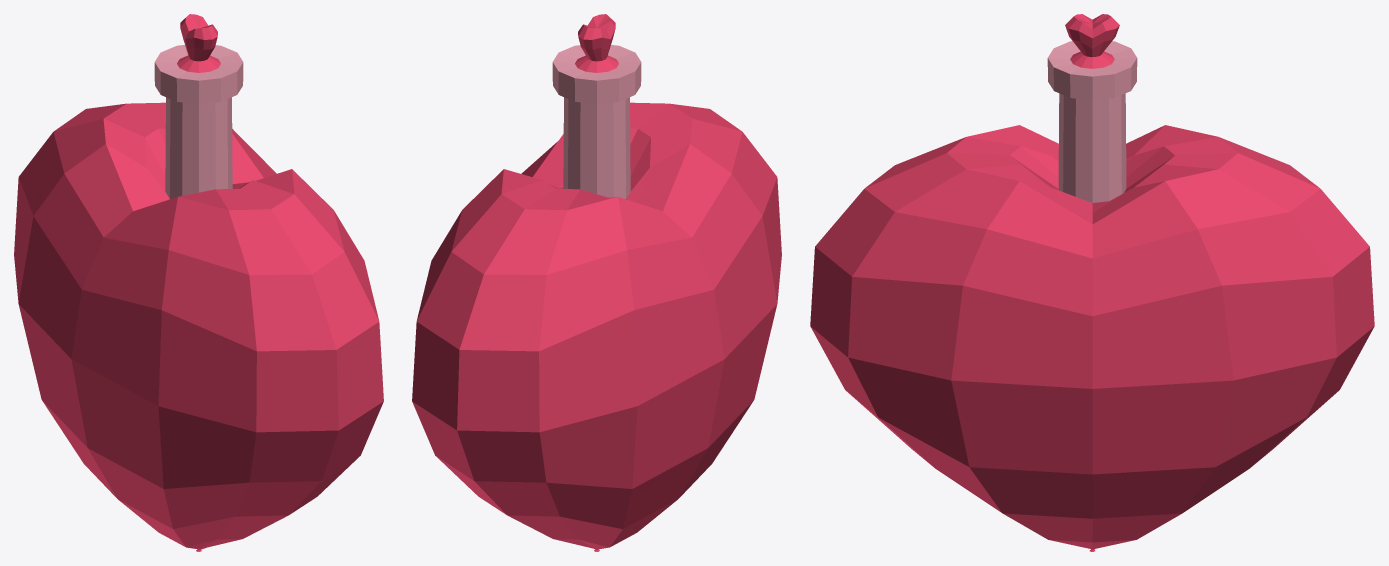
File: LovePotion.fbx
The picture shows the model from 3 angles, left to right: view 1: azimuth 30°, elevation 25°; view 2: azimuth 150°, elevation 25°; view 3: azimuth 270°, elevation 25°; orthographic projection.
Parts seen in each view (by area): view 1: love; view 2: love; view 3: love.
Part boxes in pixels (x1,y1,x2,y2): love: [14, 14, 383, 551]; love: [412, 14, 781, 551]; love: [810, 14, 1374, 551].
Bounding box in the file's own units: 196 × 389 × 372.
